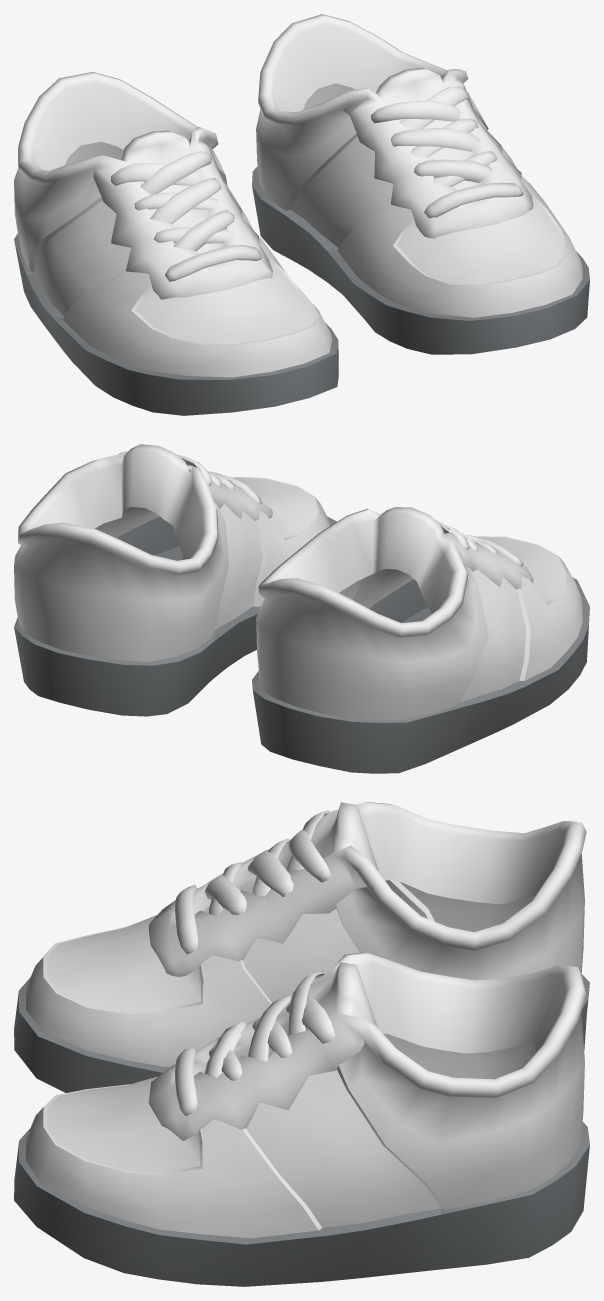
File: Shoe_Sneakers_15.glb
The picture shows the model from 3 angles, top to bottom: view 1: azimuth 30°, elevation 25°; view 2: azimuth 150°, elevation 25°; view 3: azimuth 270°, elevation 25°; orthographic projection. The views are drawn at different scales.
Parts seen in each view (by area): view 1: Shoe_Sneakers_15; view 2: Shoe_Sneakers_15; view 3: Shoe_Sneakers_15.
Part boxes in pixels (left/top/right/bottom): Shoe_Sneakers_15: left=14, top=14, right=589, bottom=415; Shoe_Sneakers_15: left=14, top=444, right=589, bottom=773; Shoe_Sneakers_15: left=14, top=802, right=589, bottom=1286.
Bounding box in the file's own units: 0.2585 × 0.1045 × 0.2133.
Materials: 1 (1 with a texture image).
